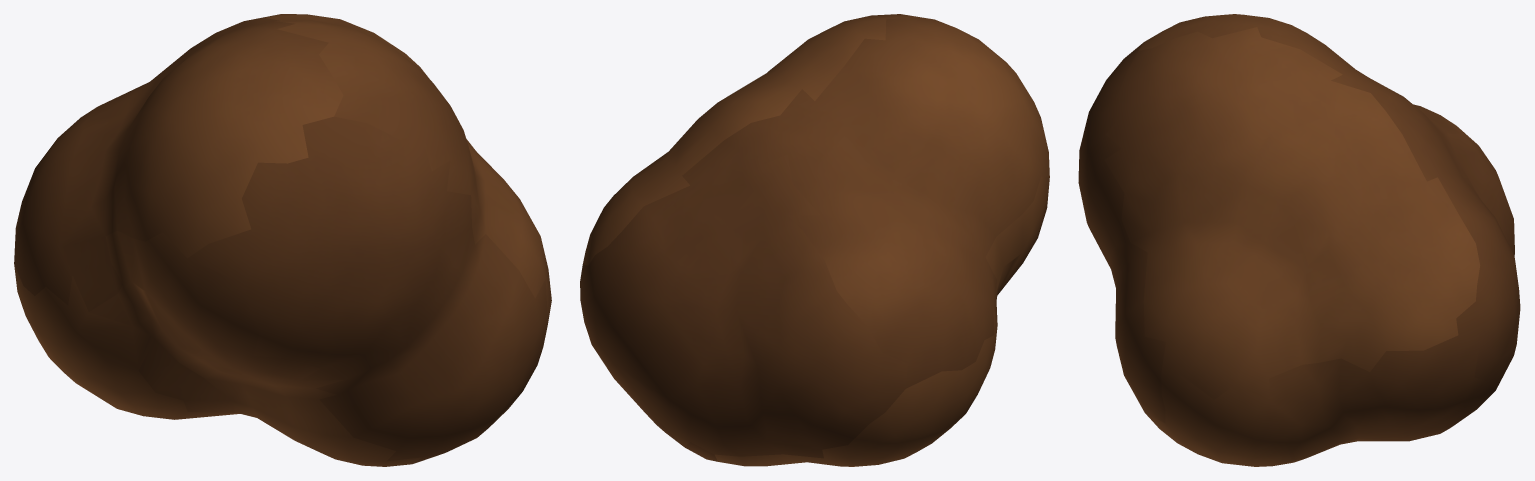
Rendered from border.glb.
The picture shows the model from 3 angles, left to right: view 1: azimuth 30°, elevation 25°; view 2: azimuth 150°, elevation 25°; view 3: azimuth 270°, elevation 25°; orthographic projection. The views are drawn at different scales.
Parts seen in each view (by area): view 1: border; view 2: border; view 3: border.
Boxes of the visible parts, x1,y1,x2,y2 form: border: [14, 14, 551, 466]; border: [580, 14, 1049, 466]; border: [1078, 14, 1520, 466].
Bounding box in the file's own units: 0.9754 × 0.9726 × 1.02.
1 material, 1 textured.
